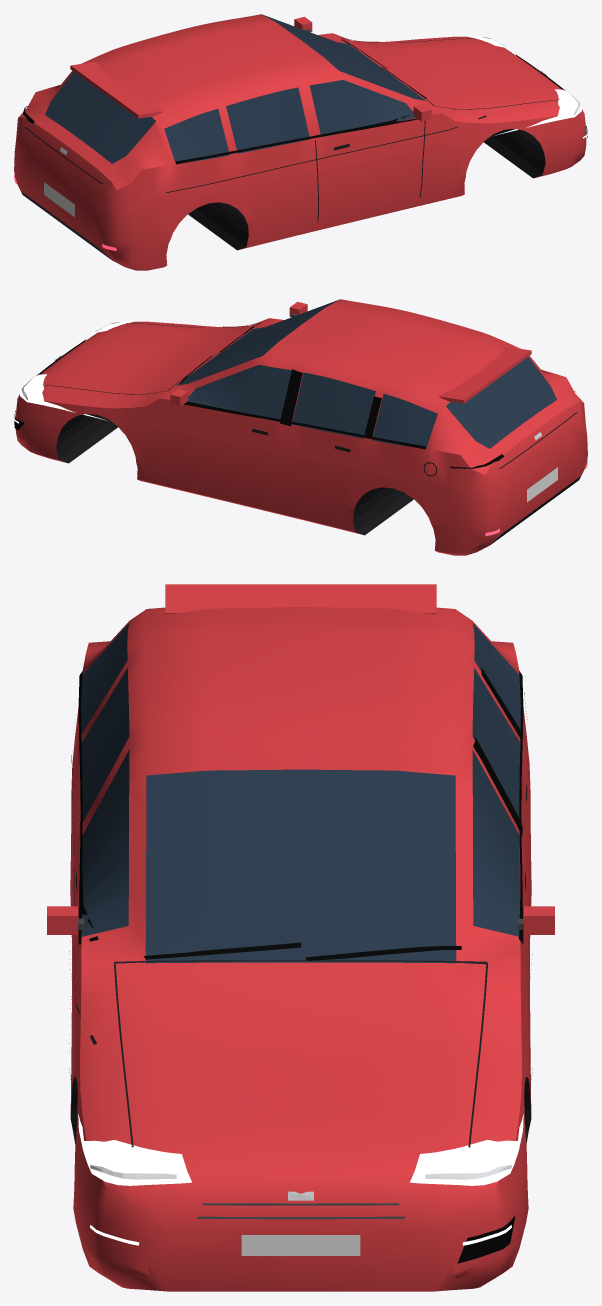
The model's file is hyundai-i30-pd.glb.
3 views of the same model, one above another, from view 1: azimuth 30°, elevation 25°; view 2: azimuth 150°, elevation 25°; view 3: azimuth 270°, elevation 25° (orthographic). The views are drawn at different scales.
Visible parts, largest first — view 1: hyundai-i30-pd; view 2: hyundai-i30-pd; view 3: hyundai-i30-pd.
Part boxes in pixels (bbox=[...]): hyundai-i30-pd: bbox=[14, 14, 587, 270]; hyundai-i30-pd: bbox=[14, 299, 587, 555]; hyundai-i30-pd: bbox=[47, 584, 554, 1291].
Bounding box in the file's own units: 4.37 × 1.31 × 1.96.
